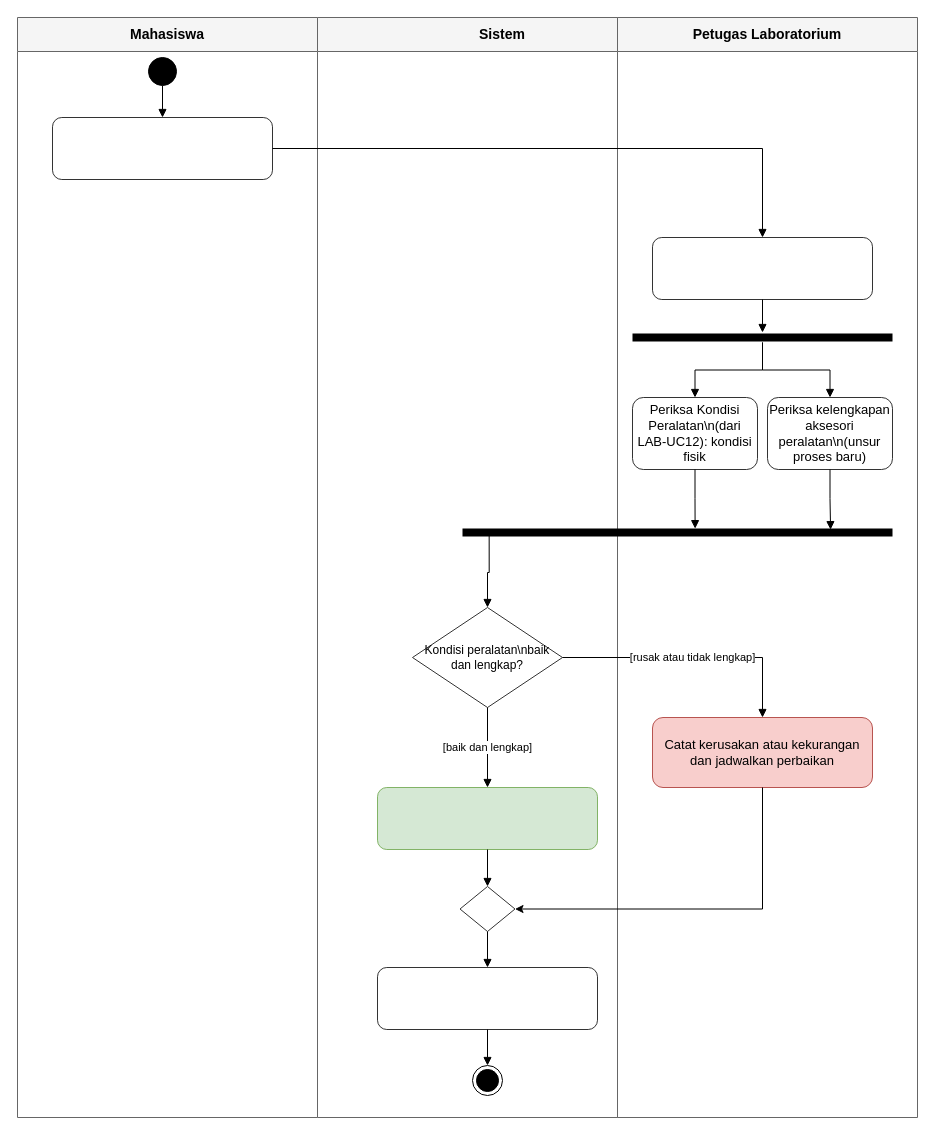
Some shapes in this 935 by 1135 pixel diagram are drawn without their labels. Here are the shapes that lost their labels. From the top down, the box of each, then its label:
(52, 116, 272, 180): Menyerahkan peralatan yang dipinjam
(652, 236, 872, 300): Catat Pengembalian Peralatan\n(LAB-UC11)
(376, 786, 598, 850): Perbarui status peralatan menjadi tersedia
(376, 966, 598, 1030): Menutup transaksi peminjaman
